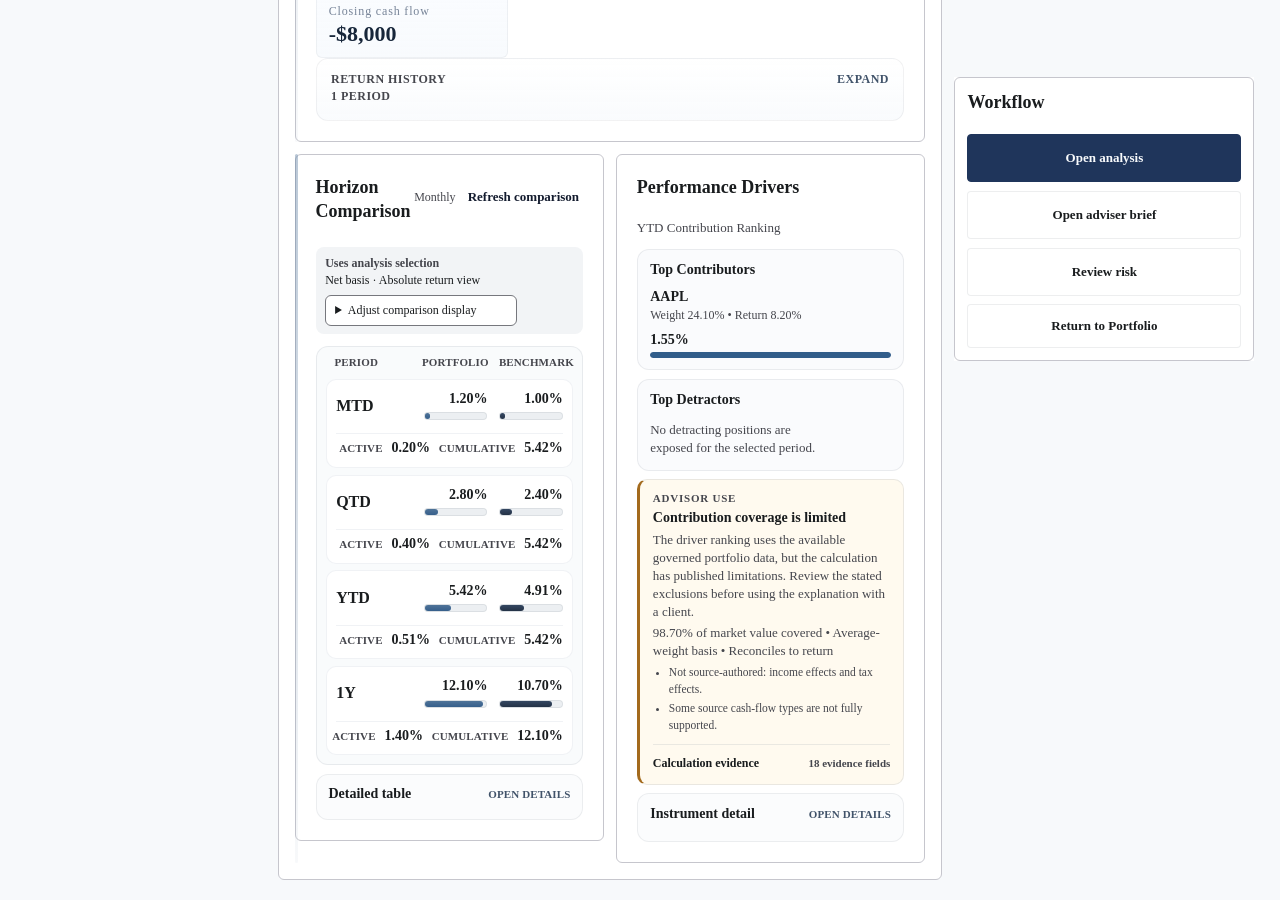
PerformanceAnalyticsPage › shows summary modules by default and hides analysis modules
(page scrolled)
Check: the text "Closing cash flow" is shown, box [329,4,430,18]
Check: the number of headings "Horizon Comparison" is 1, box [316,175,406,223]
Click the text "Calculation evidence": (706,763) [653,754,759,772]
(page scrolled)
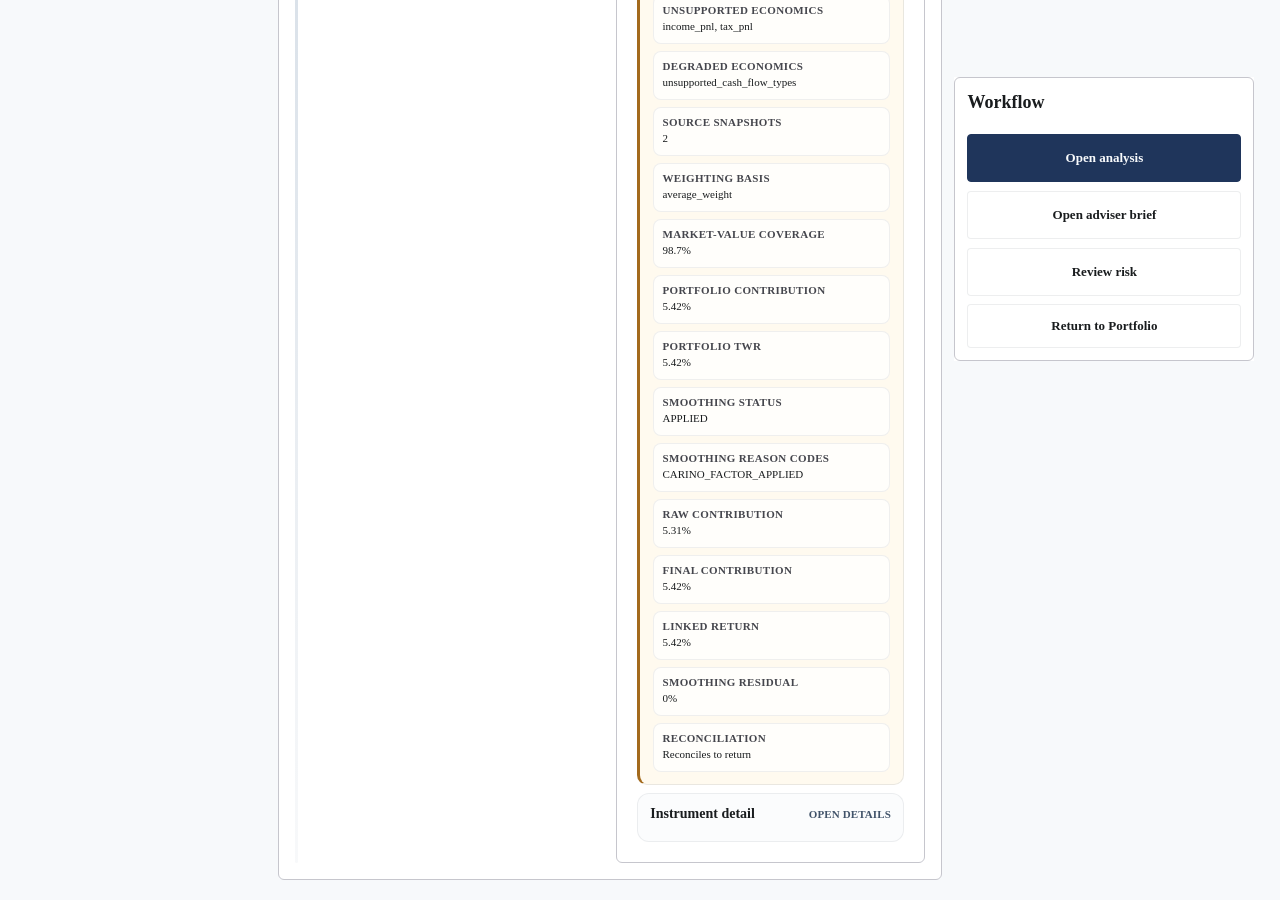
Check: the text "APPLIED" is shown, box [662,412,708,424]
Click the heading "Instrument detail": (702,813) [650,806,755,821]
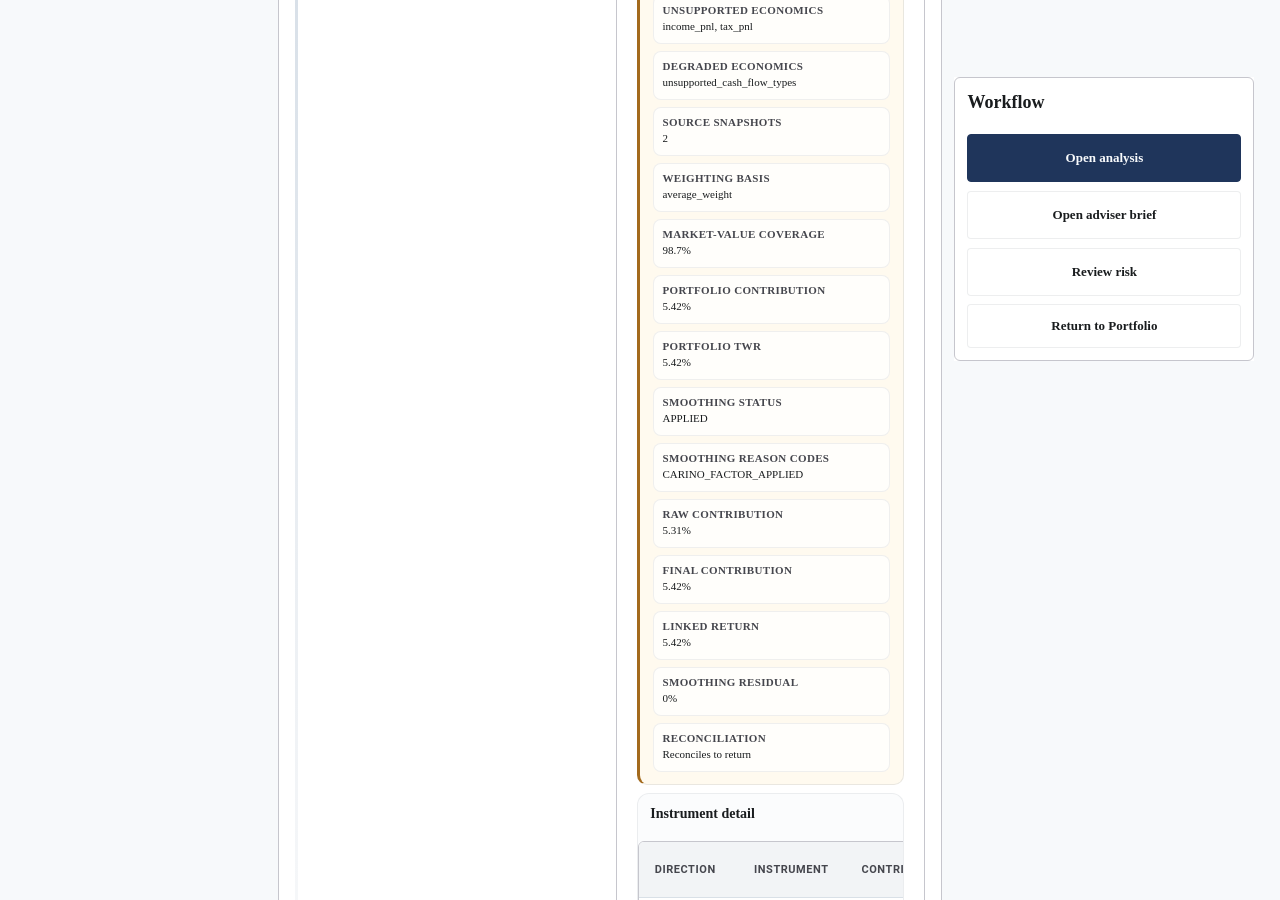
Check: the column heading "Direction" is shown, box [639,842,738,897]
